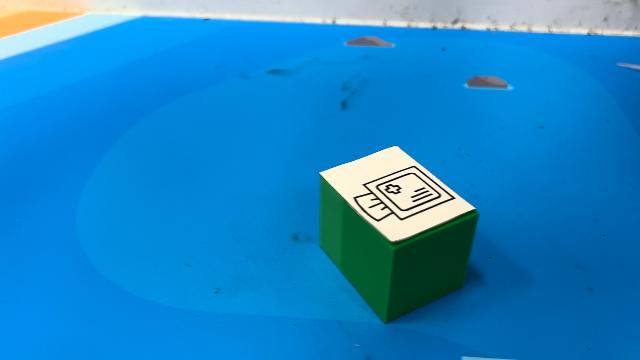napkin: (316, 142, 480, 324)
